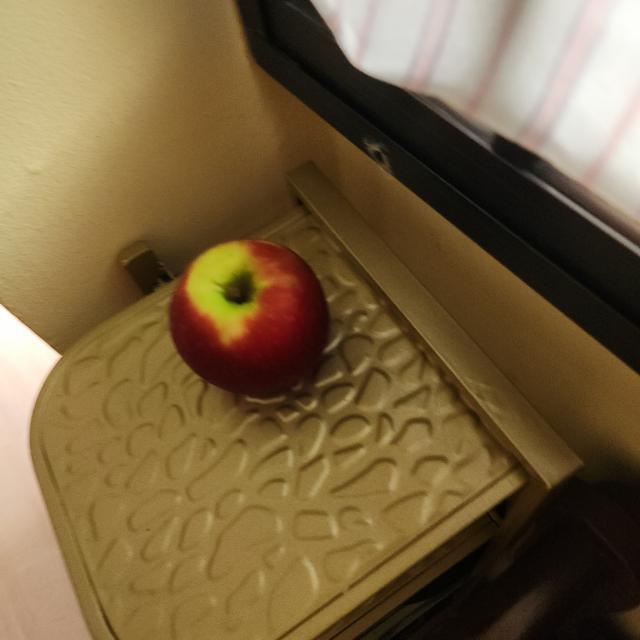apple: (162, 228, 332, 406)
